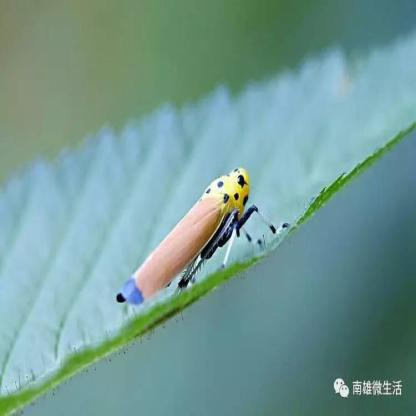Green-Leafhopper: (115, 159, 291, 319)
